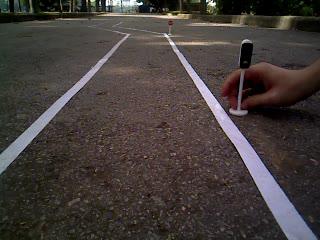Blue: (238, 38, 255, 70)
